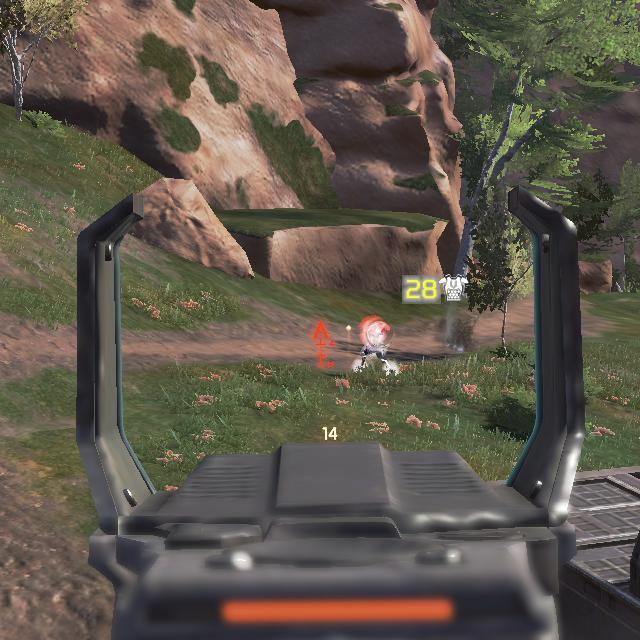avatar: (352, 314, 398, 379)
object: (357, 313, 393, 351)
